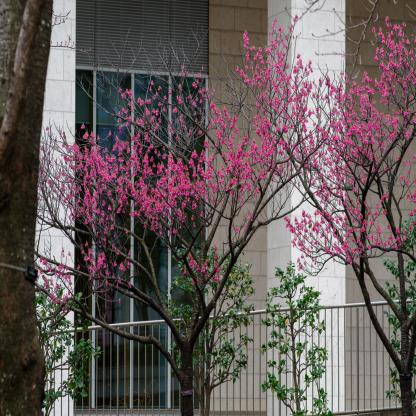KanhiSakura: (35, 66, 275, 339), (232, 9, 416, 278)
